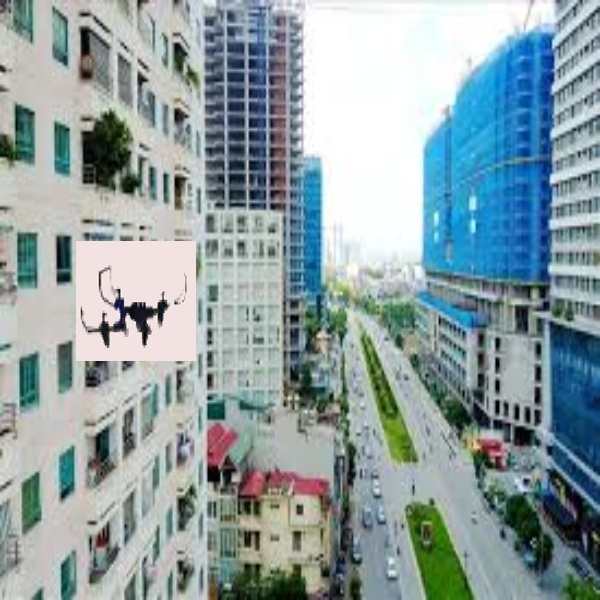drone: (80, 259, 195, 349)
